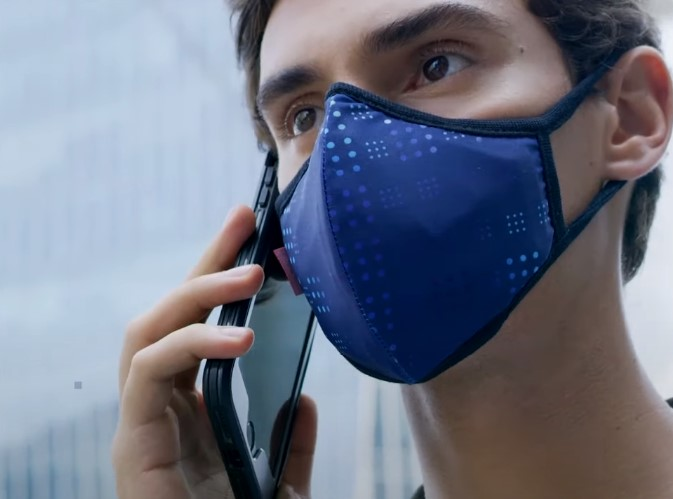face_with_mask: (231, 3, 673, 389)
